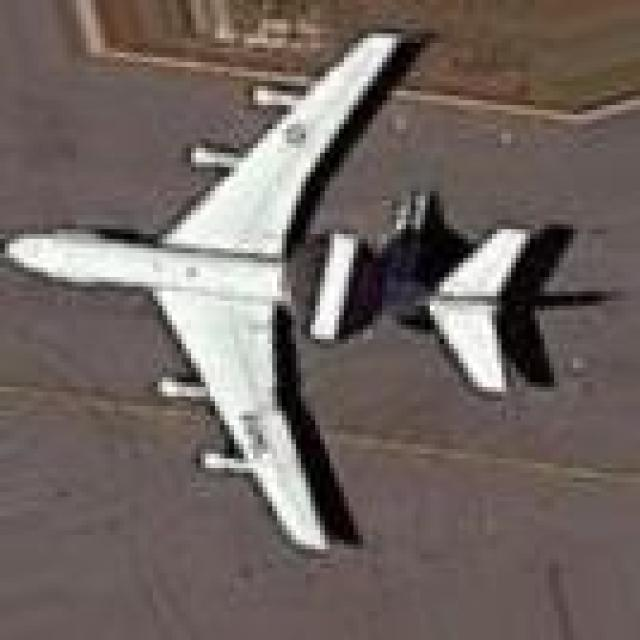E-3_TopDown: (0, 19, 616, 554)
